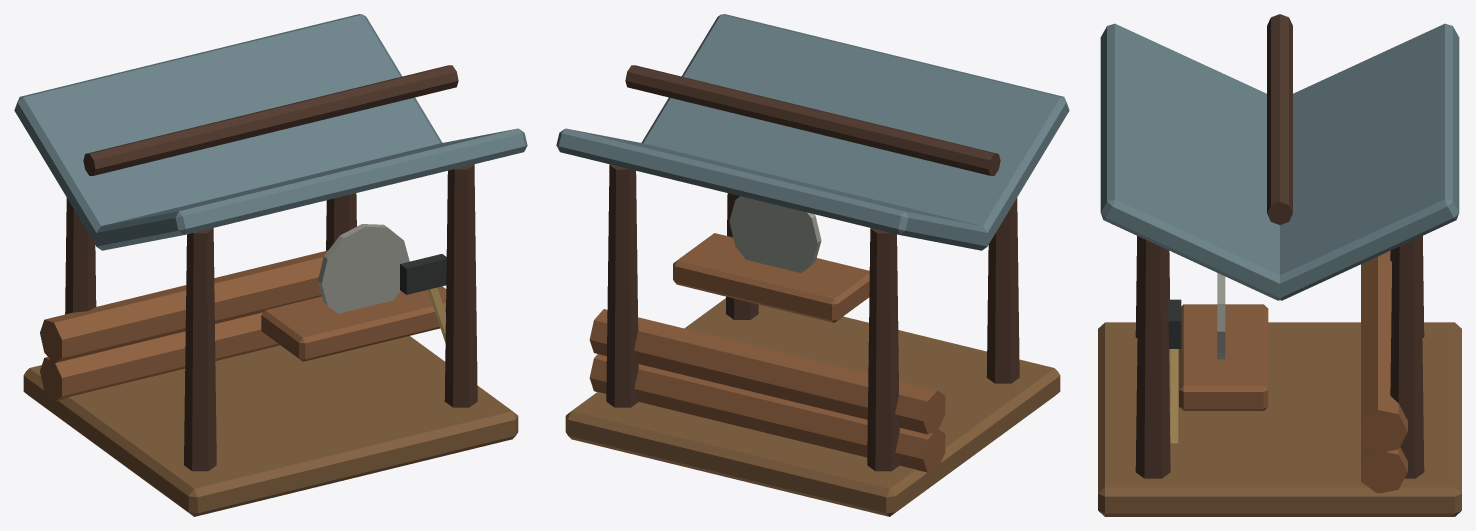
The model's file is building_lumber.glb.
3 views of the same model, side by side, from view 1: azimuth 30°, elevation 25°; view 2: azimuth 150°, elevation 25°; view 3: azimuth 270°, elevation 25° (orthographic). The views are drawn at different scales.
Visible parts, largest first — view 1: PackedEarth, ShedRoof_Back, ShedRoof_Front, ShedRoof_Ridge, Log_03, CuttingBench, ShedPost.002, ShedPost, Log_00, SawBlade, Log_04, ShedPost.001 (+5 smaller); view 2: ShedRoof_Front, PackedEarth, ShedRoof_Back, CuttingBench, ShedRoof_Ridge, Log_03, Log_04, ShedPost.003, ShedPost.001, Log_01, Log_00, SawBlade (+4 smaller); view 3: PackedEarth, ShedRoof_Back, ShedRoof_Front, CuttingBench, ShedPost.002, ShedPost.003, ShedRoof_Ridge, Log_04, Log_05, Log_02, AxeHandle, SawBlade (+2 smaller).
Boxes of the visible parts, x1,y1,x2,y2 form: PackedEarth: (23,336,518,516); ShedRoof_Back: (14,14,442,248); ShedRoof_Front: (93,128,527,250); ShedRoof_Ridge: (83,65,458,175); Log_03: (40,264,288,363); CuttingBench: (261,286,446,361); ShedPost.002: (444,164,477,407); ShedPost: (184,228,216,471); Log_00: (40,312,277,401); SawBlade: (318,224,409,313); Log_04: (111,251,326,348); ShedPost.001: (65,197,96,314); ShedRoof_Front: (641,14,1069,248); PackedEarth: (565,298,1060,516); ShedRoof_Back: (556,128,990,250); CuttingBench: (673,233,869,322); ShedRoof_Ridge: (625,65,1000,175); Log_03: (697,346,945,434); Log_04: (643,322,868,419); ShedPost.003: (606,164,638,407); ShedPost.001: (867,228,899,471); Log_01: (643,367,867,457); Log_00: (697,386,945,472); SawBlade: (729,196,821,272); PackedEarth: (1098,322,1461,516); ShedRoof_Back: (1273,23,1459,300); ShedRoof_Front: (1100,23,1285,300); CuttingBench: (1179,304,1268,410); ShedPost.002: (1135,237,1170,478); ShedPost.003: (1390,237,1424,478); ShedRoof_Ridge: (1267,14,1292,224); Log_04: (1361,265,1391,391); Log_05: (1361,355,1407,452); Log_02: (1361,441,1407,493); AxeHandle: (1170,349,1178,443); SawBlade: (1217,273,1225,359).
Bounding box in the file's own units: 1.89 × 1.54 × 1.55.
